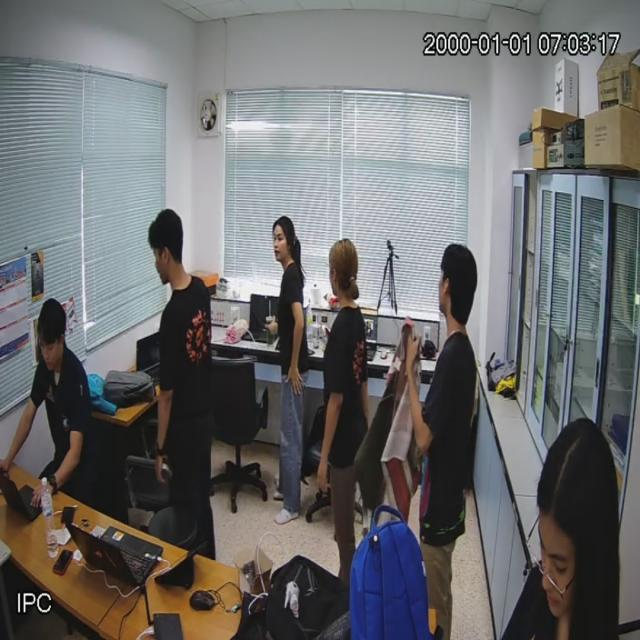normal: (142, 197, 223, 562), (409, 234, 480, 640), (318, 229, 365, 582), (19, 292, 94, 506), (263, 208, 311, 528)
